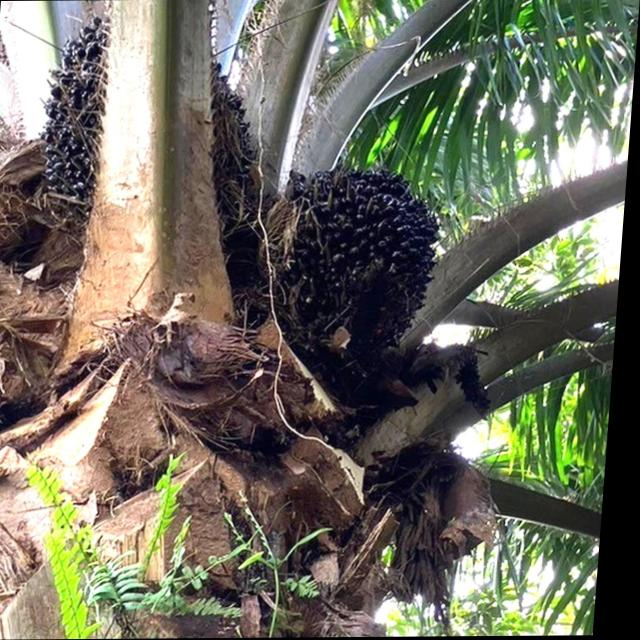unripe: (246, 157, 455, 386)
